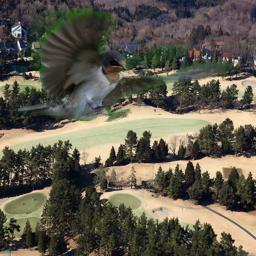Swallow: (18, 8, 233, 122)
